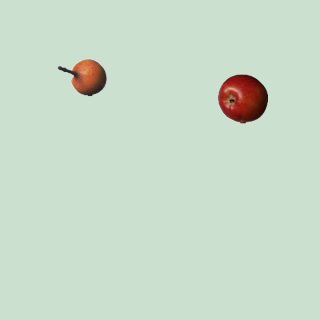Apple Braeburn: (217, 73, 267, 123)
Granadilla: (56, 52, 106, 102)
